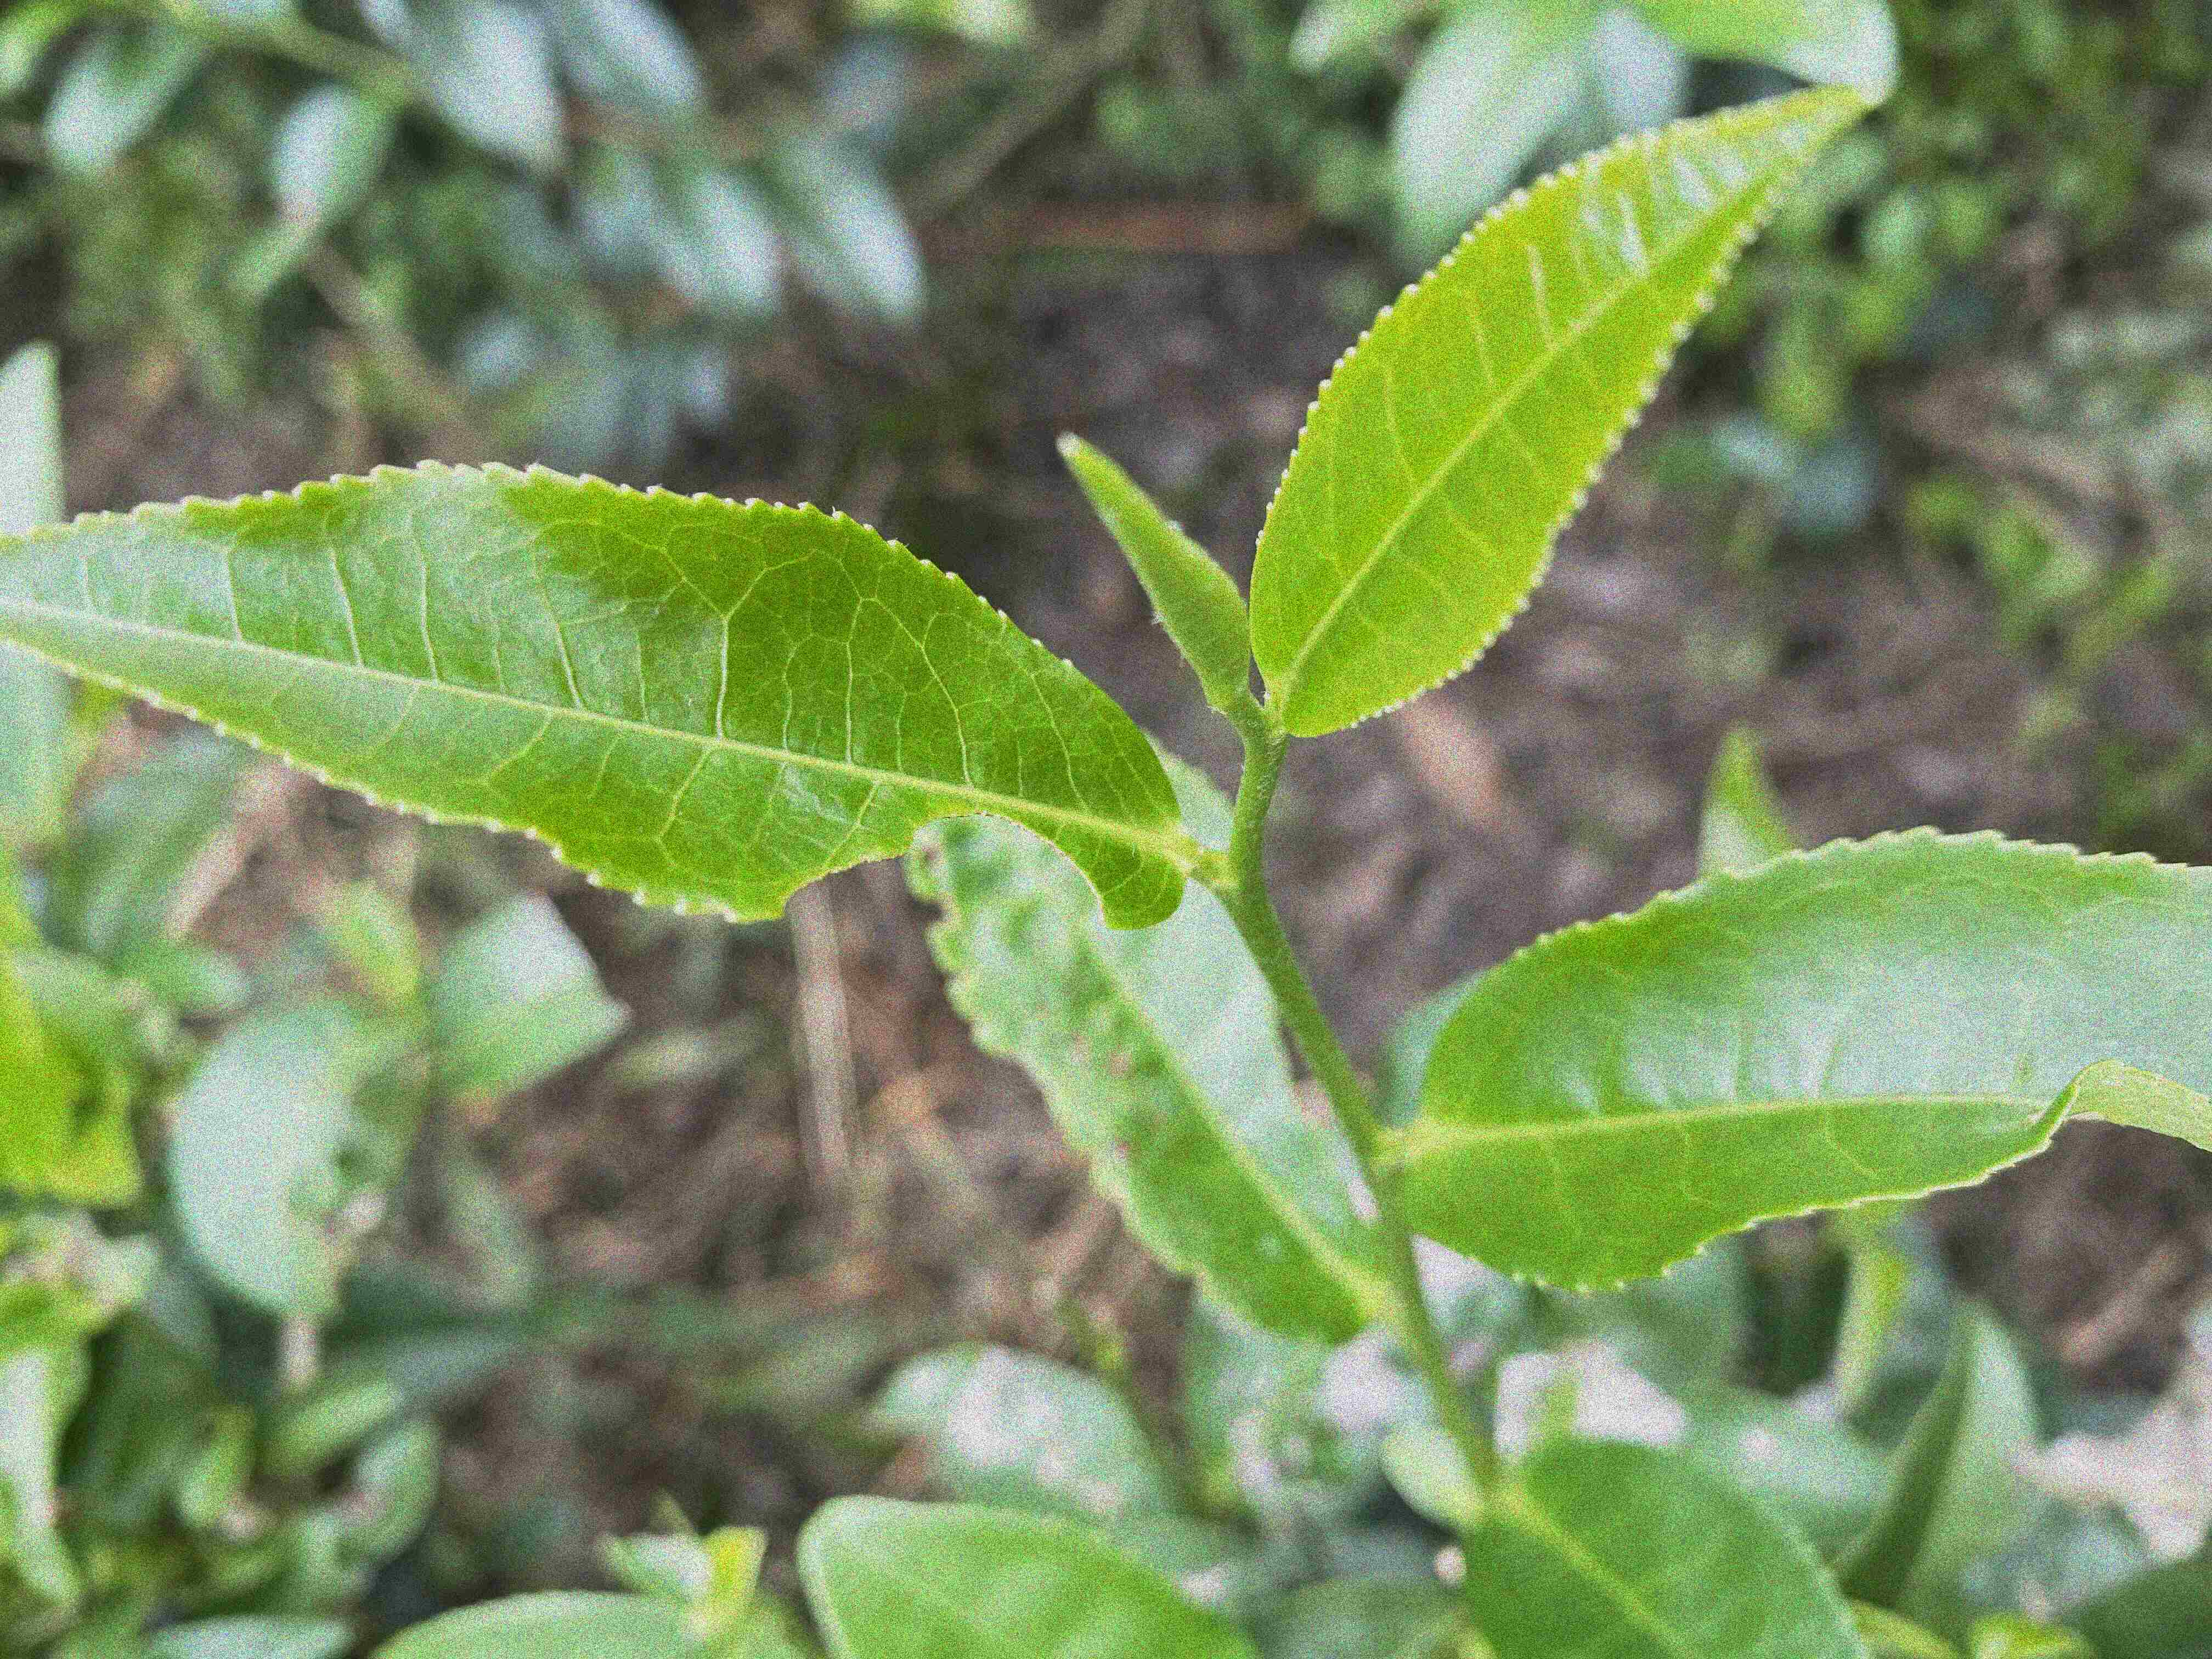chihuo_low: (3, 458, 1184, 924)
healthy: (1247, 84, 1869, 739)
